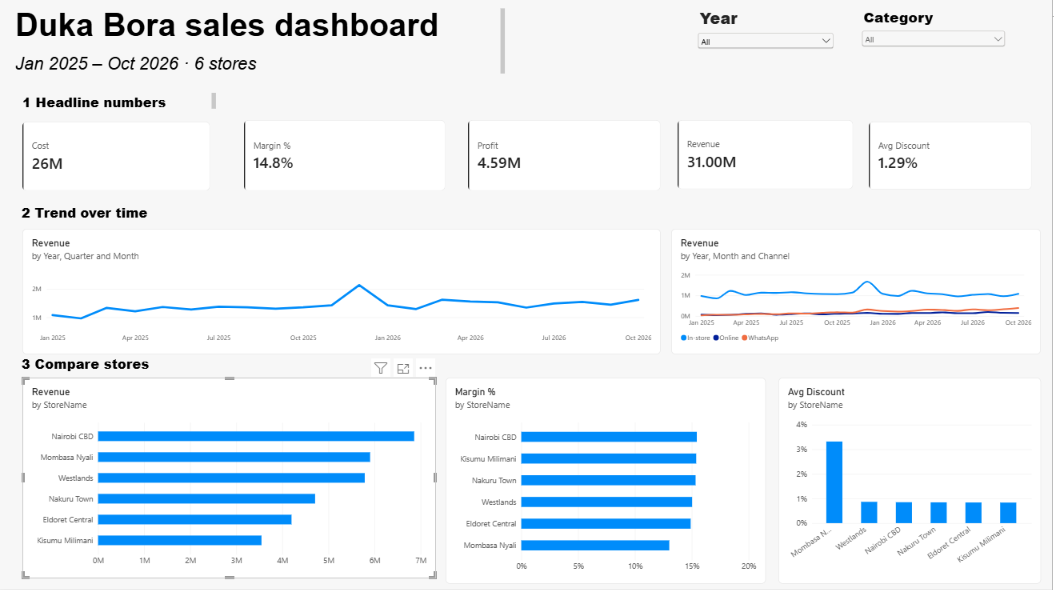

What the dashboard file says about the page in this screenshot:
{"tool":"powerbi","page":{"name":"Page 1","canvas":[1920,1080],"ordinal":0},"visuals":[{"type":"cardVisual","fields":{"Data":["Sales.Cost"]},"box":[42.3,226.1,342.9,126.9],"z":0},{"type":"cardVisual","fields":{"Data":["Sales.Margin %"]},"box":[446.4,223.2,367.7,129.8],"z":1000},{"type":"cardVisual","fields":{"Data":["Sales.Revenue"]},"box":[1237.2,223.2,321,126.9],"z":2000},{"type":"cardVisual","fields":{"Data":["Sales.Profit"]},"box":[855,223.2,351.6,129.8],"z":3000},{"type":"lineChart","fields":{"Category":["Sales.Date.Variation.Date Hierarchy.Year","Sales.Date.Variation.Date Hierarchy.Quarter","Sales.Date.Variation.Date Hierarchy.Month","Sales.Date.Variation.Date Hierarchy.Day"],"Y":["Sales.Revenue"]},"box":[42.3,421.6,1164.3,229.1],"z":4000},{"type":"clusteredBarChart","fields":{"Category":["Stores.StoreName"],"Y":["Sales.Revenue"]},"box":[42.3,693,754.3,366.2],"z":5000},{"type":"slicer","fields":{"Values":["Products.Category"]},"box":[1568.4,17.5,271.4,83.2],"z":6000},{"type":"clusteredBarChart","fields":{"Category":["Stores.StoreName"],"Y":["Sales.Margin %"]},"box":[814.1,693,583.6,376.4],"z":6001},{"type":"slicer","fields":{"Values":["Sales.Date.Variation.Date Hierarchy.Year"]},"box":[1269.3,17.5,256.8,83.2],"z":6002},{"type":"cardVisual","fields":{"Data":["Sales.Avg Discount"]},"box":[1585.9,226.1,297.6,124],"z":6003},{"type":"columnChart","fields":{"Category":["Stores.StoreName"],"Y":["Sales.Avg Discount"]},"box":[1421,693,478.5,376.4],"z":6004},{"type":"textbox","box":[29.2,17.5,892.9,121.1],"z":6005},{"type":"textbox","box":[42.3,173.6,353.1,30.6],"z":6006},{"type":"textbox","box":[40.9,375,383.7,115.3],"z":6007},{"type":"textbox","box":[40.9,650.7,341.4,52.5],"z":6008},{"type":"lineChart","fields":{"Category":["Sales.Date.Variation.Date Hierarchy.Year","Sales.Date.Variation.Date Hierarchy.Month"],"Series":["Sales.Channel"],"Y":["Sales.Revenue"]},"box":[1225.5,421.6,674,229.1],"z":6009}]}

Visuals, with their boxes in screenshot pixels (x1, y1, x2, y2), scaled from the page's 1920x1080 canvas onto the 1054x590 screenshot:
cardVisual - Sales.Cost: {"x1": 23, "y1": 124, "x2": 211, "y2": 193}
cardVisual - Sales.Margin %: {"x1": 245, "y1": 122, "x2": 447, "y2": 193}
cardVisual - Sales.Revenue: {"x1": 679, "y1": 122, "x2": 855, "y2": 191}
cardVisual - Sales.Profit: {"x1": 469, "y1": 122, "x2": 662, "y2": 193}
lineChart - Sales.Date.Variation.Date Hierarchy.Year x Sales.Date.Variation.Date Hierarchy.Quarter: {"x1": 23, "y1": 230, "x2": 662, "y2": 355}
clusteredBarChart - Stores.StoreName x Sales.Revenue: {"x1": 23, "y1": 379, "x2": 437, "y2": 579}
slicer - Products.Category: {"x1": 861, "y1": 10, "x2": 1010, "y2": 55}
clusteredBarChart - Stores.StoreName x Sales.Margin %: {"x1": 447, "y1": 379, "x2": 767, "y2": 584}
slicer - Sales.Date.Variation.Date Hierarchy.Year: {"x1": 697, "y1": 10, "x2": 838, "y2": 55}
cardVisual - Sales.Avg Discount: {"x1": 871, "y1": 124, "x2": 1034, "y2": 191}
columnChart - Stores.StoreName x Sales.Avg Discount: {"x1": 780, "y1": 379, "x2": 1043, "y2": 584}
textbox: {"x1": 16, "y1": 10, "x2": 506, "y2": 76}
textbox: {"x1": 23, "y1": 95, "x2": 217, "y2": 112}
textbox: {"x1": 22, "y1": 205, "x2": 233, "y2": 268}
textbox: {"x1": 22, "y1": 355, "x2": 210, "y2": 384}
lineChart - Sales.Date.Variation.Date Hierarchy.Year x Sales.Date.Variation.Date Hierarchy.Month: {"x1": 673, "y1": 230, "x2": 1043, "y2": 355}
